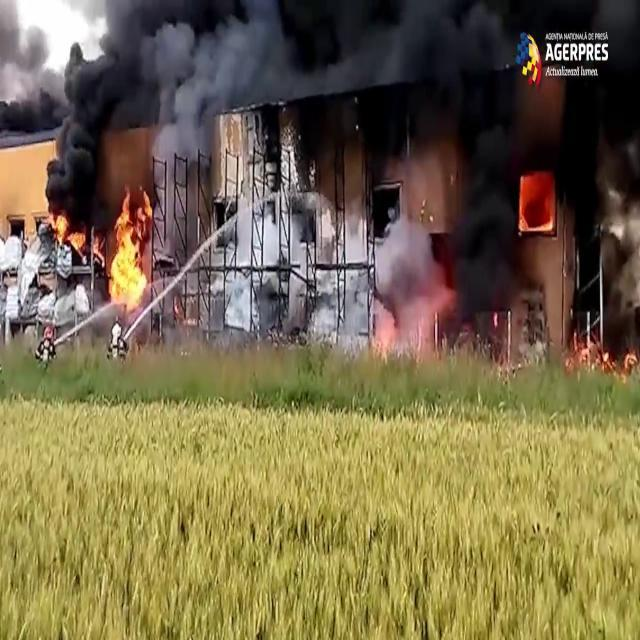Fire: (106, 187, 154, 310), (568, 320, 640, 380), (517, 166, 557, 238), (46, 206, 86, 251)
Smoke: (348, 0, 631, 245), (1, 0, 288, 185)
